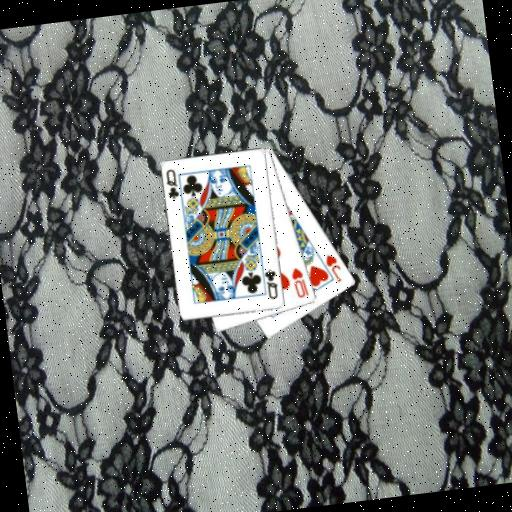10H: (288, 264, 311, 301)
JH: (322, 251, 344, 285)
QC: (261, 266, 281, 302), (163, 166, 182, 201)
